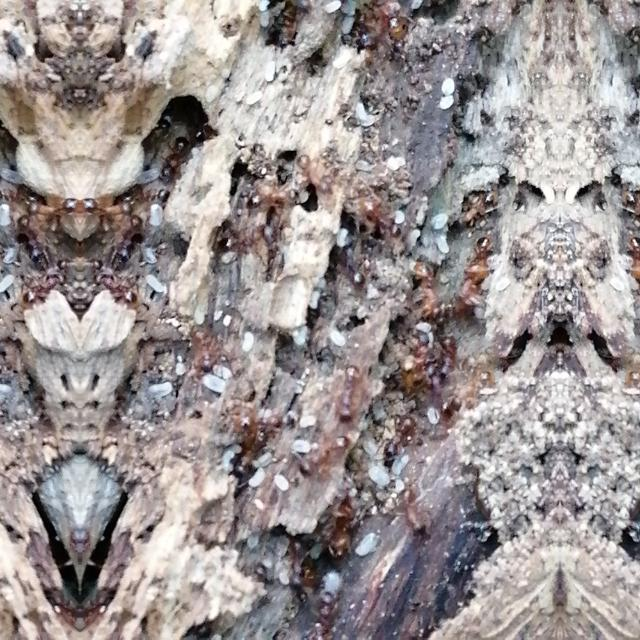Myrmica: (178, 313, 222, 409), (354, 182, 408, 248), (298, 420, 352, 482), (329, 226, 373, 302), (292, 142, 341, 208), (322, 485, 363, 561), (154, 126, 192, 206), (392, 475, 434, 545), (329, 352, 367, 428), (378, 404, 422, 468), (231, 424, 281, 480), (396, 322, 432, 398), (462, 458, 502, 524), (237, 402, 300, 441), (408, 250, 442, 322), (245, 172, 298, 218), (94, 266, 144, 312), (16, 266, 66, 312), (308, 581, 346, 639), (454, 192, 506, 230), (112, 208, 148, 262), (12, 208, 48, 262), (468, 228, 498, 284), (284, 524, 310, 586), (370, 0, 410, 38), (436, 327, 462, 383), (618, 458, 640, 524), (80, 193, 134, 214), (26, 193, 80, 214), (614, 190, 640, 230), (622, 228, 640, 282), (244, 560, 272, 584), (80, 532, 96, 562), (64, 532, 80, 562)
